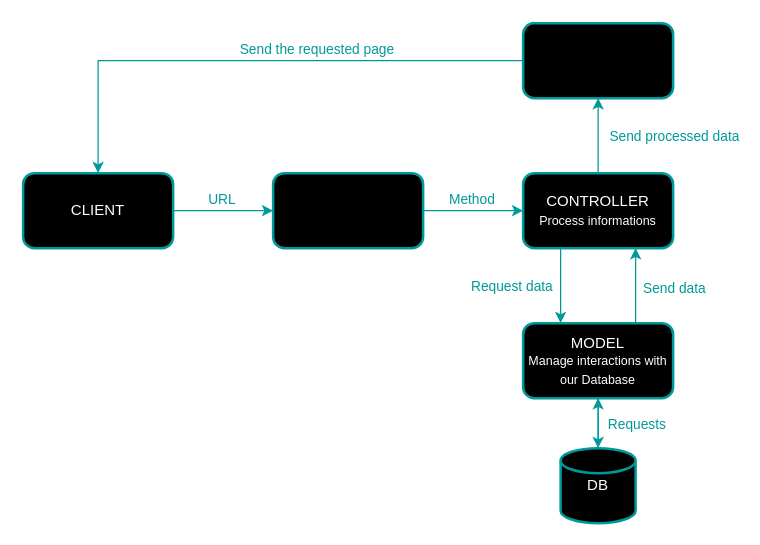
This 760x545 diagram has some shape labels left out. Here are the shapes that lost their labels. From the top down, the box of each, then its label:
(521, 21, 674, 99): VIEW Manage HTML content
(271, 171, 424, 249): ROUTER Find our controller
